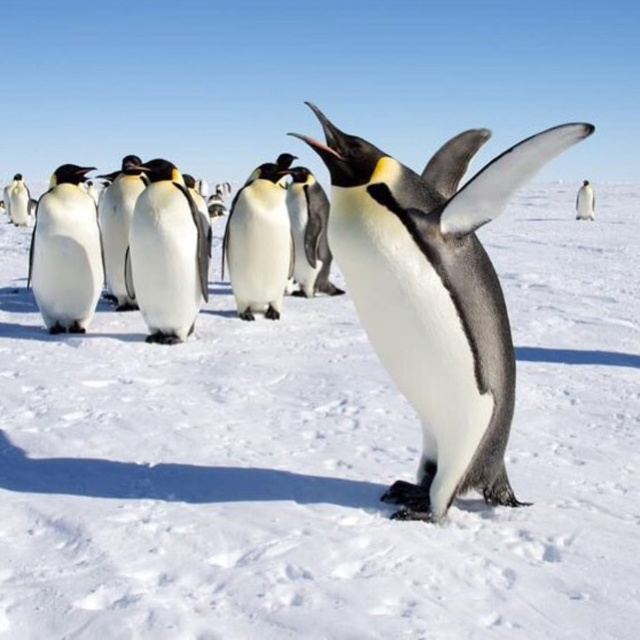Penguin: (289, 100, 598, 526), (118, 151, 210, 350), (28, 162, 99, 336), (227, 161, 302, 323), (283, 165, 350, 289), (100, 149, 146, 312), (3, 172, 36, 225), (575, 171, 598, 223), (210, 189, 233, 217)
